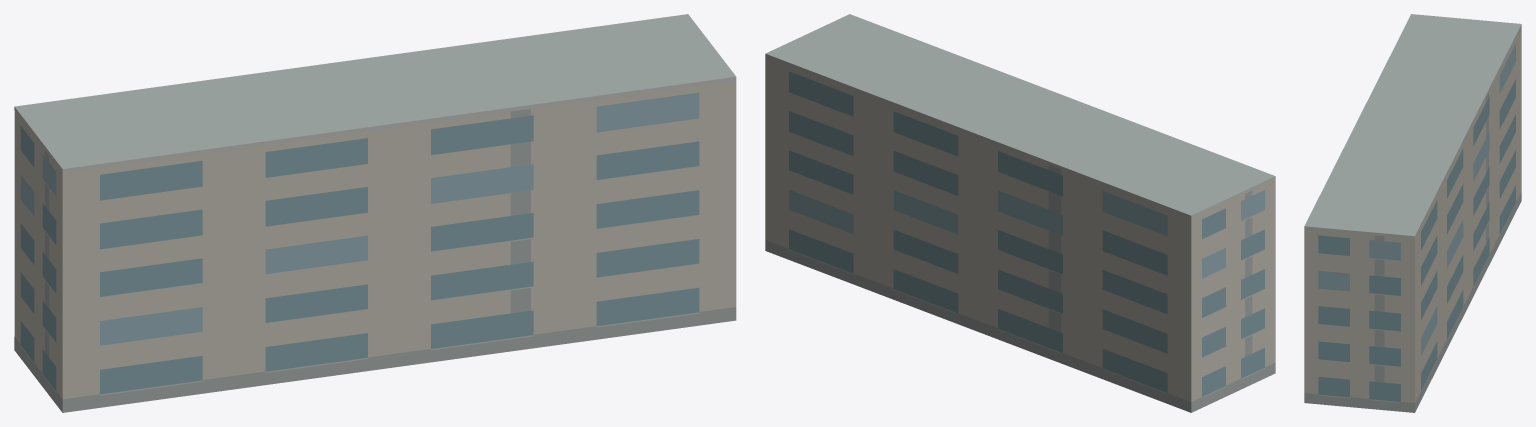
File: residential-d8dbb23b-27ef-4602-b3d0-a08435262052.glb
3 renders of one model, left to right at view 1: azimuth 30°, elevation 25°; view 2: azimuth 150°, elevation 25°; view 3: azimuth 270°, elevation 25°, orthographic. The views are drawn at different scales.
Visible parts, largest first — view 1: residential-d8dbb23b-27ef-4602-b3d0-a08435262052.tmp; view 2: residential-d8dbb23b-27ef-4602-b3d0-a08435262052.tmp; view 3: residential-d8dbb23b-27ef-4602-b3d0-a08435262052.tmp.
Part boxes in pixels (x1,y1,x2,y2): residential-d8dbb23b-27ef-4602-b3d0-a08435262052.tmp: [14, 14, 736, 412]; residential-d8dbb23b-27ef-4602-b3d0-a08435262052.tmp: [765, 14, 1275, 412]; residential-d8dbb23b-27ef-4602-b3d0-a08435262052.tmp: [1304, 14, 1521, 412].
Size of the model in its own units: 41.13 by 15.25 by 17.01.
